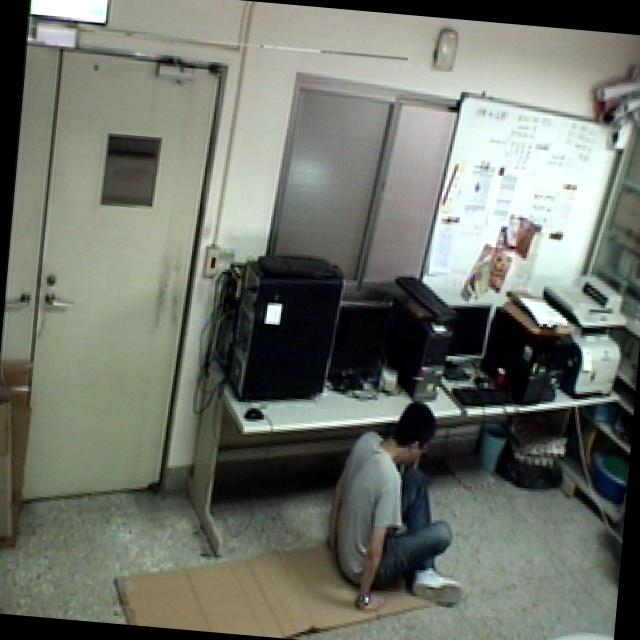sit: (310, 389, 484, 624)
